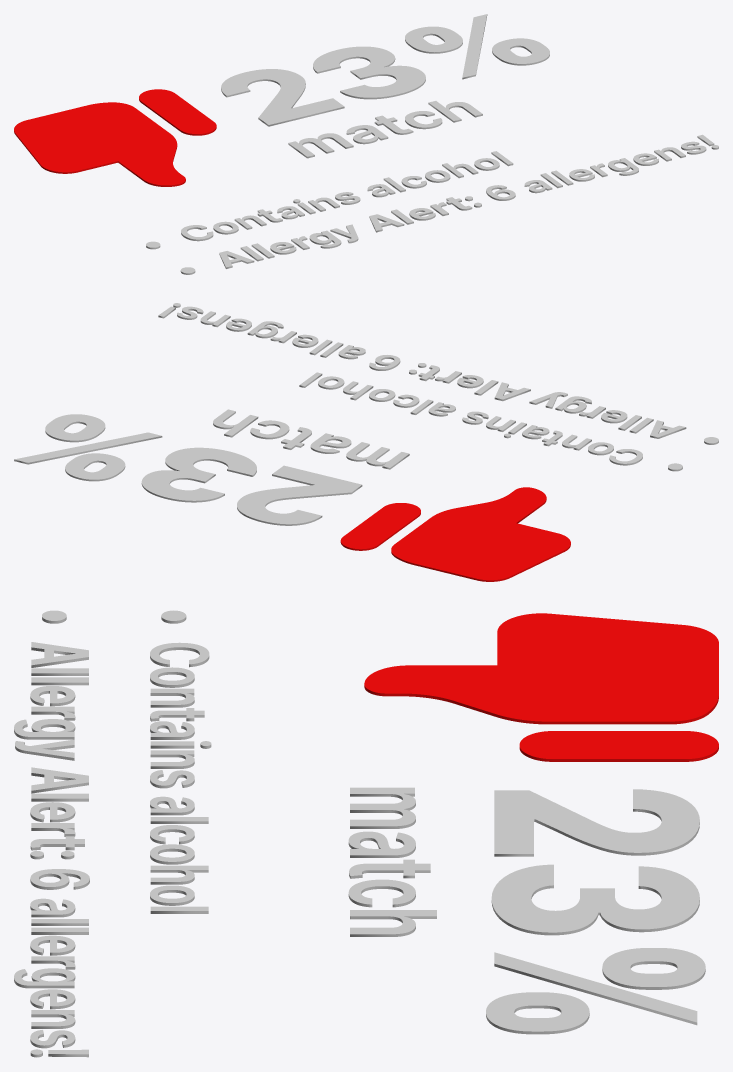
File: badCard.obj
3 views of the same model, one above another, from view 1: azimuth 30°, elevation 25°; view 2: azimuth 150°, elevation 25°; view 3: azimuth 270°, elevation 25° (orthographic). The views are drawn at different scales.
Parts seen in each view (by area): view 1: Curve.001_Curve.015, Curve.002_Curve.016, Curve.003_Curve.017, Curve_Curve.014; view 2: Curve.001_Curve.015, Curve.002_Curve.016, Curve.003_Curve.017, Curve_Curve.014; view 3: Curve.001_Curve.015, Curve.002_Curve.016, Curve.003_Curve.017, Curve_Curve.014.
Part boxes in pixels (bbox=[...]): Curve.001_Curve.015: bbox=[14, 89, 216, 186]; Curve.002_Curve.016: bbox=[221, 14, 549, 126]; Curve.003_Curve.017: bbox=[146, 134, 718, 274]; Curve_Curve.014: bbox=[288, 101, 482, 158]; Curve.001_Curve.015: bbox=[340, 487, 570, 581]; Curve.002_Curve.016: bbox=[14, 414, 362, 525]; Curve.003_Curve.017: bbox=[158, 303, 718, 471]; Curve_Curve.014: bbox=[213, 409, 409, 469]; Curve.001_Curve.015: bbox=[364, 613, 718, 761]; Curve.002_Curve.016: bbox=[486, 789, 705, 1034]; Curve.003_Curve.017: bbox=[14, 610, 211, 1057]; Curve_Curve.014: bbox=[348, 787, 436, 936].
Bounding box in the file's own units: 1.36 × 0.004 × 0.9135.
